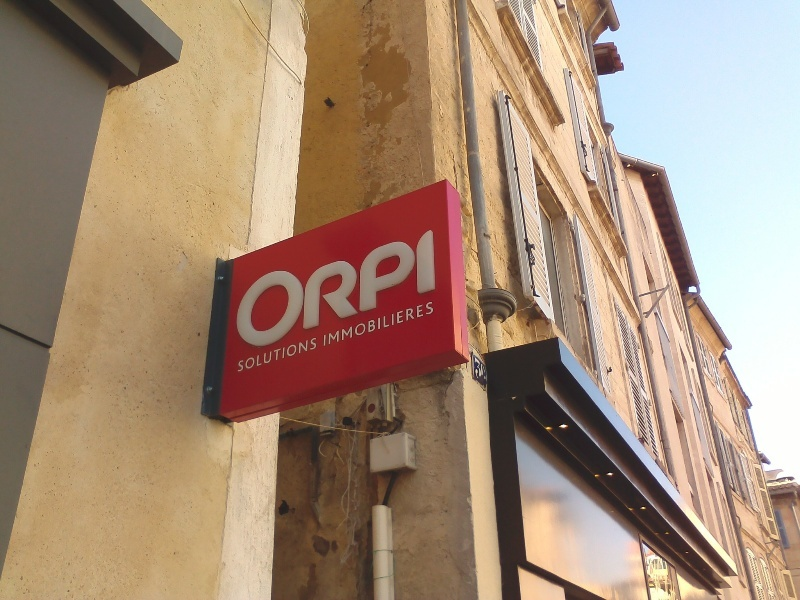text: (241, 216, 256, 359), (257, 216, 272, 359), (273, 216, 288, 359), (289, 216, 304, 359), (305, 216, 320, 359), (321, 216, 336, 359), (337, 216, 352, 359), (353, 216, 368, 359), (369, 216, 384, 359), (385, 216, 400, 359), (401, 216, 416, 359), (417, 216, 432, 359), (433, 216, 444, 359), (234, 216, 240, 359), (321, 299, 336, 349), (337, 299, 352, 349), (353, 299, 368, 349), (369, 299, 384, 349), (385, 299, 400, 349), (401, 299, 416, 349), (417, 299, 432, 349), (241, 334, 256, 374), (257, 334, 272, 374), (273, 334, 288, 374), (289, 334, 304, 374), (305, 334, 319, 374), (433, 299, 444, 349), (481, 357, 488, 386), (236, 334, 240, 374), (475, 357, 480, 386)
